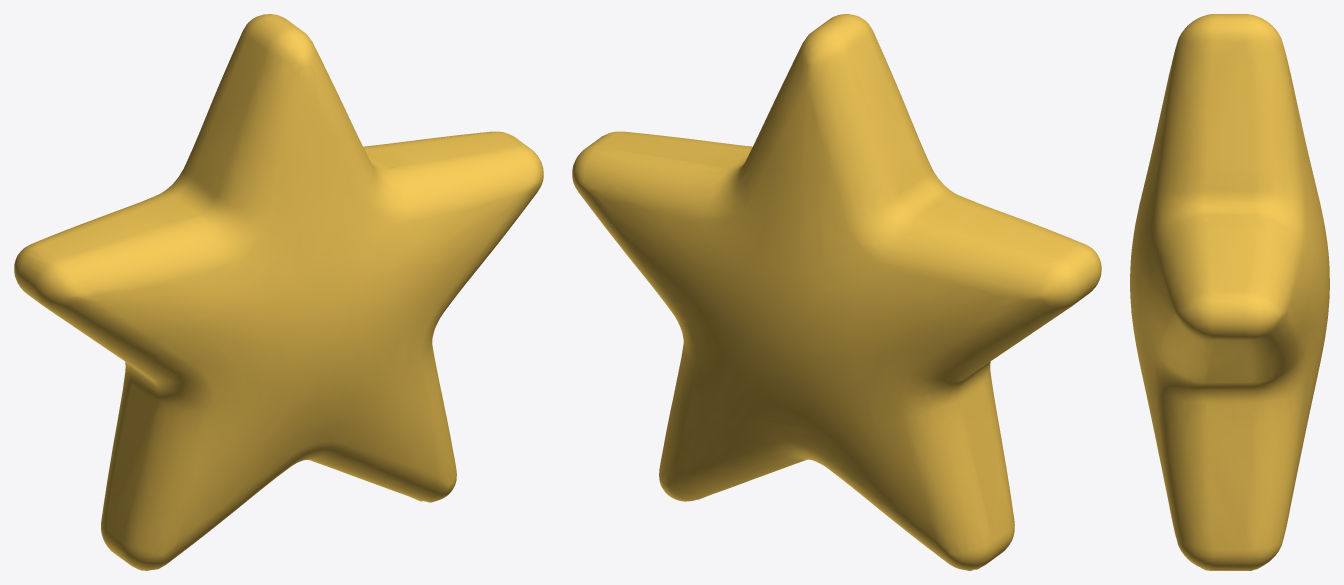
The model's file is star.glb.
3 renders of one model, left to right at view 1: azimuth 30°, elevation 25°; view 2: azimuth 150°, elevation 25°; view 3: azimuth 270°, elevation 25°, orthographic. The views are drawn at different scales.
Parts seen in each view (by area): view 1: star-pickup_body; view 2: star-pickup_body; view 3: star-pickup_body.
Part boxes in pixels (left/top/right/bottom): star-pickup_body: left=14, top=14, right=543, bottom=570; star-pickup_body: left=572, top=14, right=1101, bottom=570; star-pickup_body: left=1130, top=14, right=1329, bottom=570.
Size of the model in its own units: 0.5028 by 0.4782 by 0.1793.
Materials: 1 (1 with a texture image).
